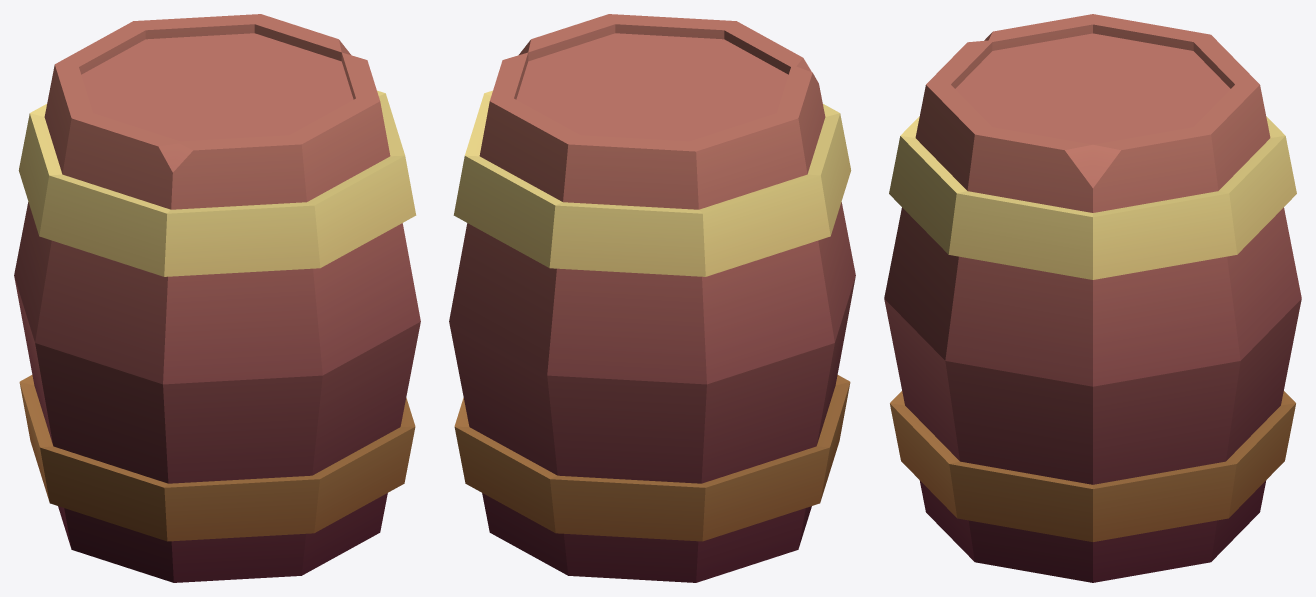
Rendered from BarrilCerrado.fbx.
3 renders of one model, left to right at view 1: azimuth 30°, elevation 25°; view 2: azimuth 150°, elevation 25°; view 3: azimuth 270°, elevation 25°, orthographic.
Visible parts, largest first — view 1: bar cerrado; view 2: bar cerrado; view 3: bar cerrado.
Boxes of the visible parts, x1,y1,x2,y2 form: bar cerrado: (14,14,420,582); bar cerrado: (449,14,855,582); bar cerrado: (884,14,1301,582).
Size of the model in its own units: 268 by 303 by 268.
